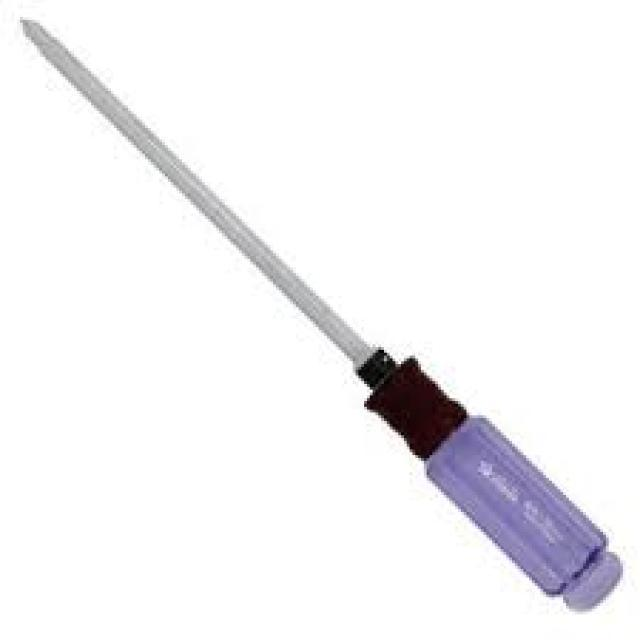screwdriver: (14, 12, 626, 614)
